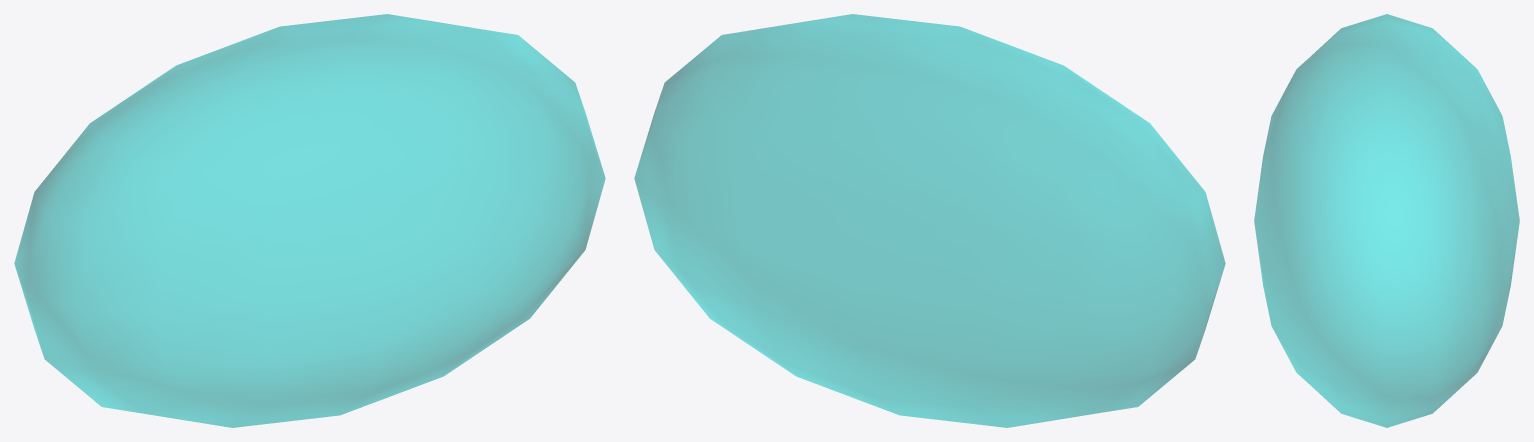
Rendered from StadiumLight_Bubble_001.fbx.
The picture shows the model from 3 angles, left to right: view 1: azimuth 30°, elevation 25°; view 2: azimuth 150°, elevation 25°; view 3: azimuth 270°, elevation 25°; orthographic projection. The views are drawn at different scales.
Visible parts, largest first — view 1: StadiumLight_Bubble_001; view 2: StadiumLight_Bubble_001; view 3: StadiumLight_Bubble_001.
Part boxes in pixels (left/top/right/bottom): StadiumLight_Bubble_001: left=14, top=14, right=605, bottom=427; StadiumLight_Bubble_001: left=634, top=14, right=1225, bottom=427; StadiumLight_Bubble_001: left=1254, top=14, right=1519, bottom=427.
Bounding box in the file's own units: 548 × 340 × 254.
